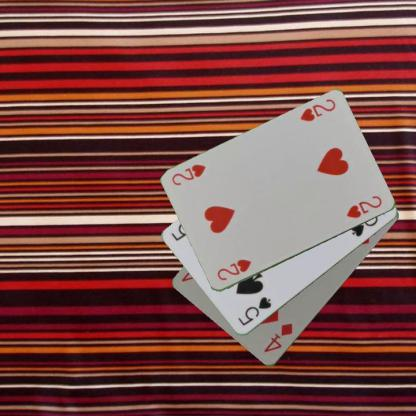2h: (297, 96, 337, 124), (214, 256, 252, 282)
4d: (261, 321, 294, 354)
5s: (235, 294, 273, 328)
